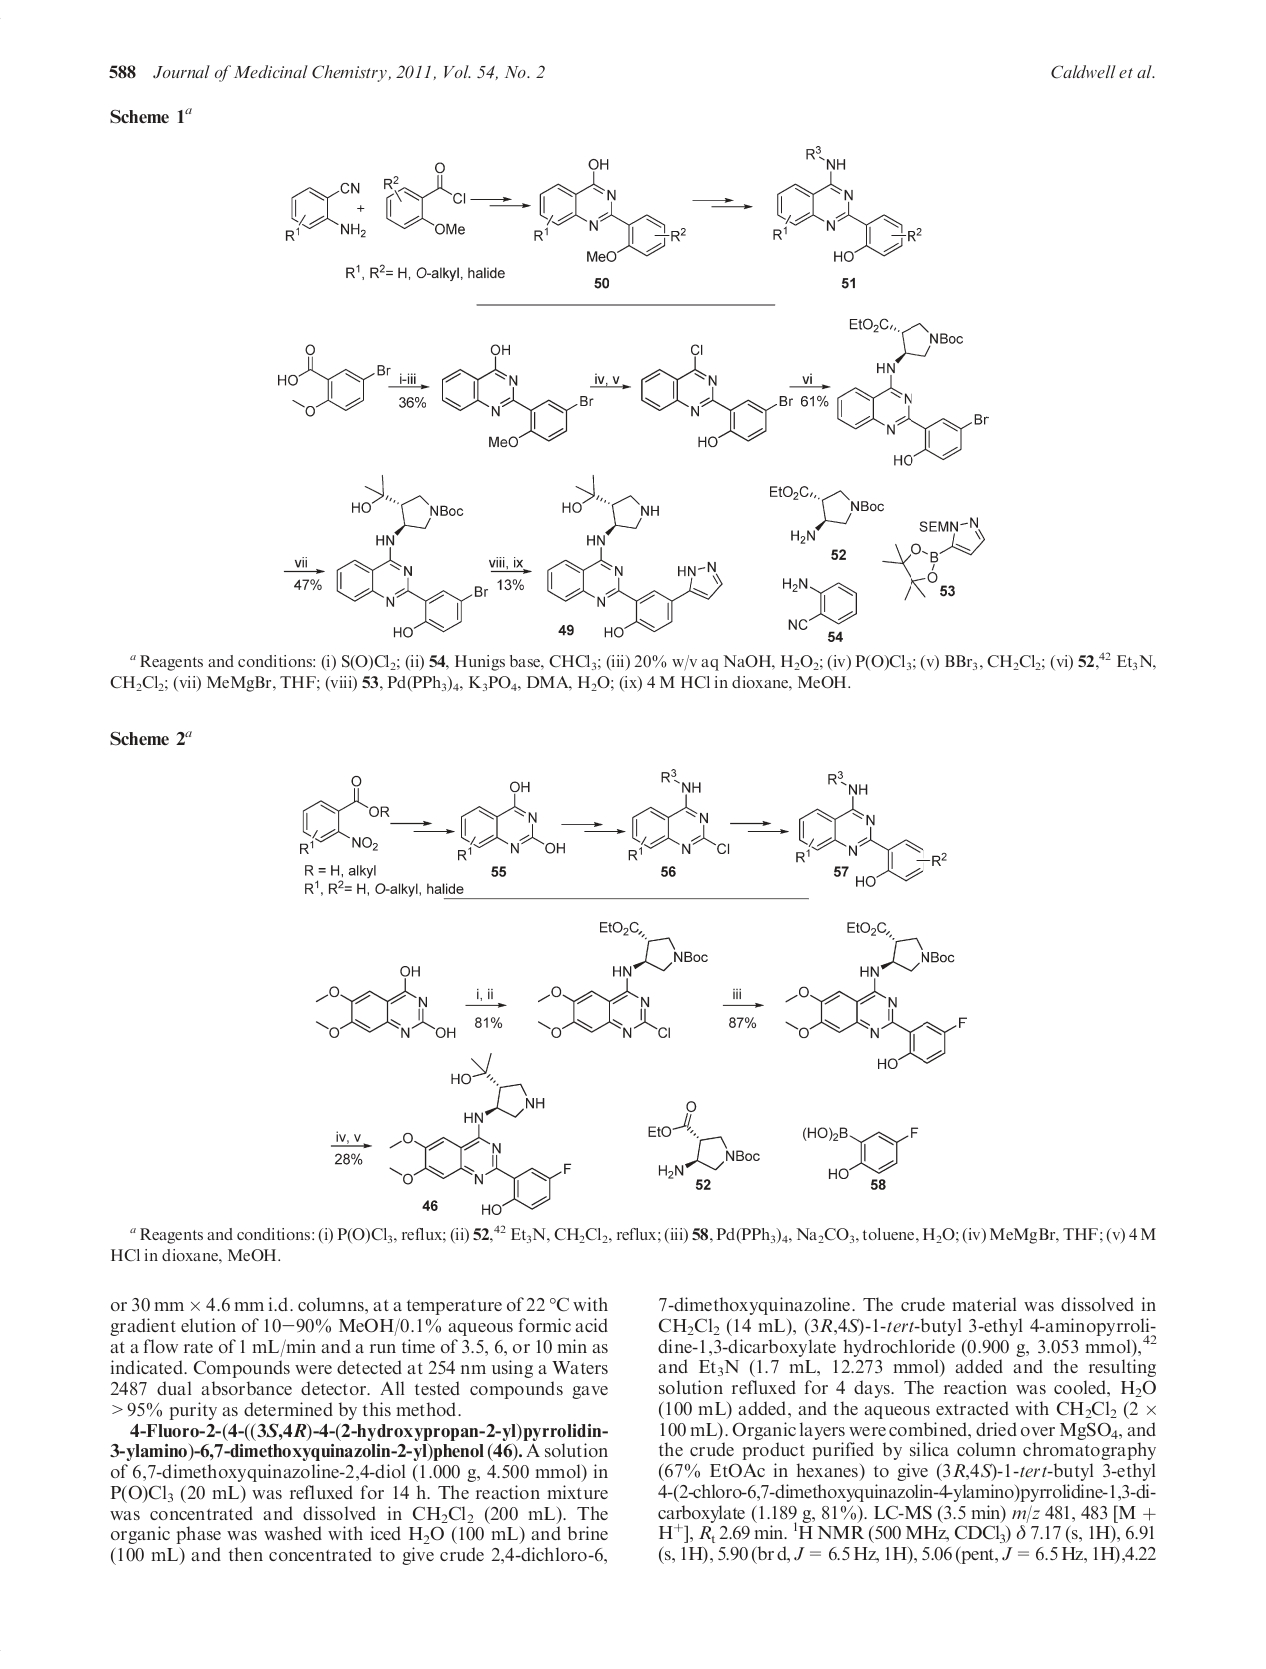exist_molecular: (386, 1052, 576, 1221), (543, 469, 727, 638), (781, 912, 969, 1073), (334, 472, 489, 642), (832, 313, 996, 473), (531, 914, 709, 1047), (771, 141, 927, 274), (791, 769, 949, 892), (529, 152, 688, 266), (438, 339, 596, 448), (637, 340, 793, 449), (309, 959, 456, 1048), (624, 761, 731, 866), (646, 1097, 762, 1181), (876, 517, 985, 605), (455, 778, 570, 860), (761, 477, 887, 551), (274, 340, 391, 416), (797, 1110, 920, 1180), (294, 773, 390, 856), (382, 160, 471, 241), (281, 177, 367, 247), (773, 571, 862, 632)
